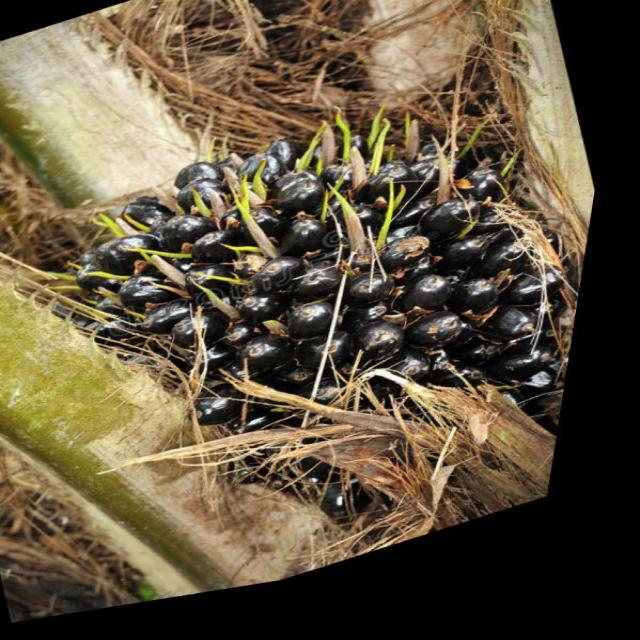Unripe: (0, 57, 623, 616)
